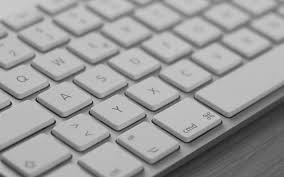keyboard: (0, 5, 284, 177)
